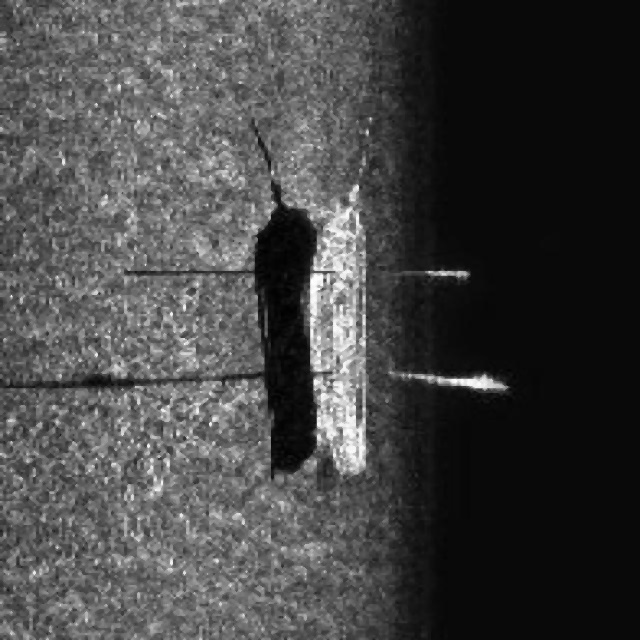Ship: (293, 169, 521, 486)
